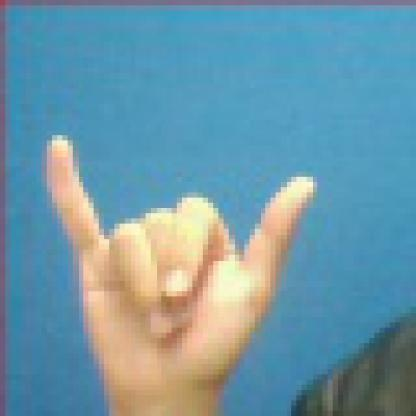six: (28, 112, 329, 415)
